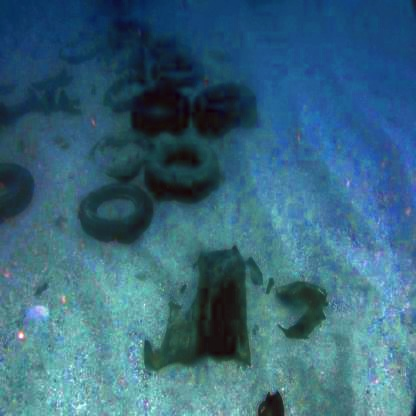tire: (143, 136, 227, 212), (191, 73, 278, 146), (81, 178, 160, 258), (135, 83, 200, 152), (0, 145, 36, 221)
